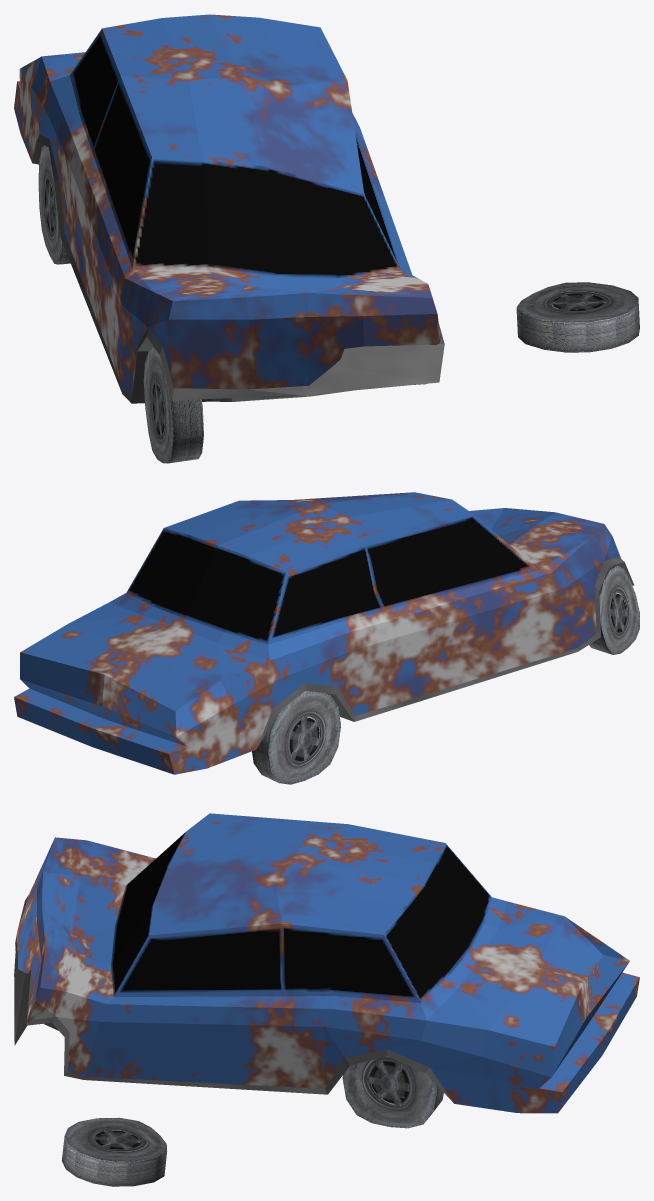
File: Destroyed_Car_1.fbx
The picture shows the model from 3 angles, top to bottom: view 1: azimuth 30°, elevation 25°; view 2: azimuth 150°, elevation 25°; view 3: azimuth 270°, elevation 25°; orthographic projection. The views are drawn at different scales.
Visible parts, largest first — view 1: Destroyed Car 1; view 2: Destroyed Car 1; view 3: Destroyed Car 1.
Boxes of the visible parts, bbox=[...] form: Destroyed Car 1: bbox=[14, 14, 639, 463]; Destroyed Car 1: bbox=[14, 492, 639, 784]; Destroyed Car 1: bbox=[14, 813, 639, 1186].
Bounding box in the file's own units: 610 × 277 × 744.
